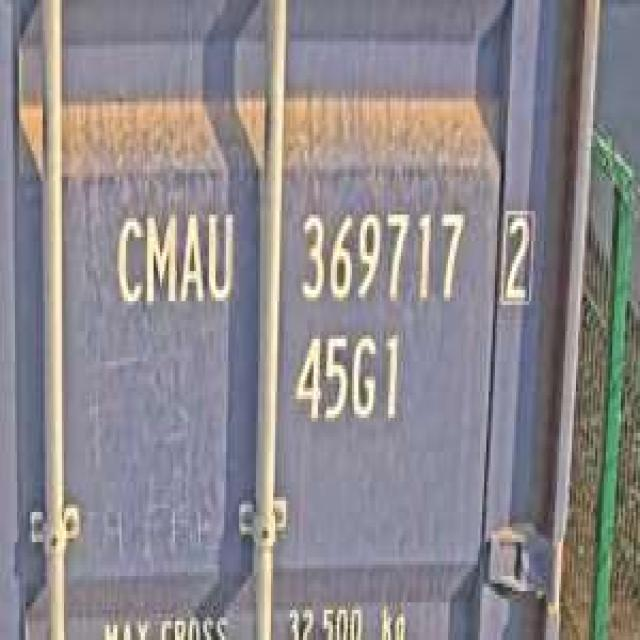dv: (499, 196, 540, 305)
owner: (106, 196, 236, 312)
serial: (292, 195, 470, 308)
size: (290, 324, 405, 433)
